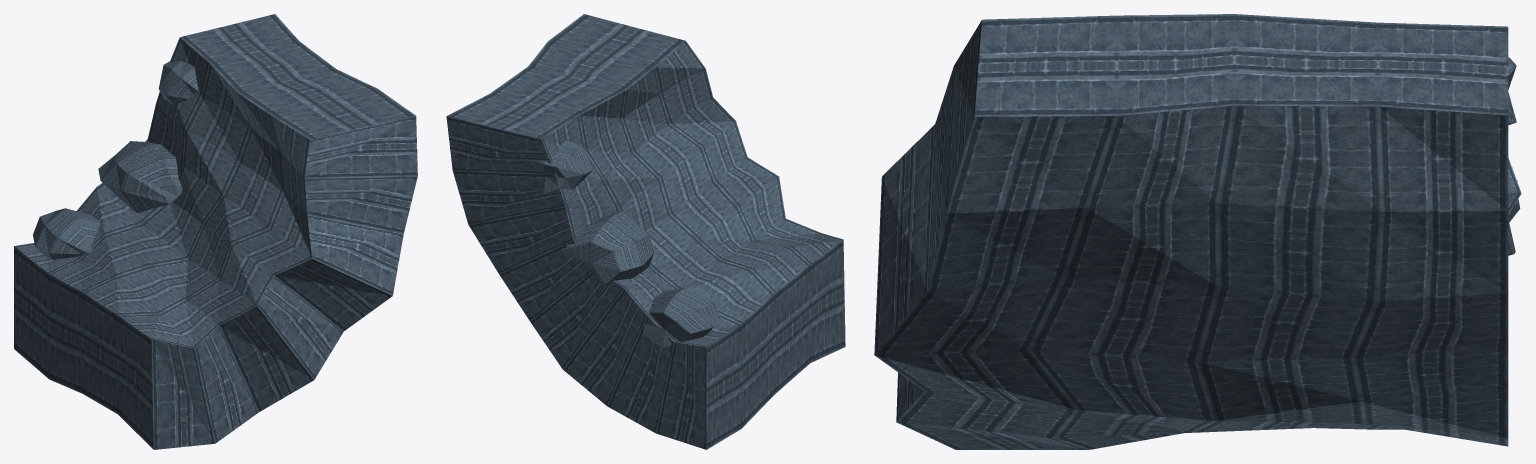
File: rv_canyon_corner.obj
The picture shows the model from 3 angles, left to right: view 1: azimuth 30°, elevation 25°; view 2: azimuth 150°, elevation 25°; view 3: azimuth 270°, elevation 25°; orthographic projection. The views are drawn at different scales.
Visible parts, largest first — view 1: rv_canyon_corner; view 2: rv_canyon_corner; view 3: rv_canyon_corner.
Part boxes in pixels (x1=…): rv_canyon_corner: x1=14, y1=14, x2=417, y2=449; rv_canyon_corner: x1=446, y1=14, x2=845, y2=449; rv_canyon_corner: x1=874, y1=14, x2=1521, y2=449.
Size of the model in its own units: 9.25 by 9.3 by 10.33.
1 material, 1 textured.
